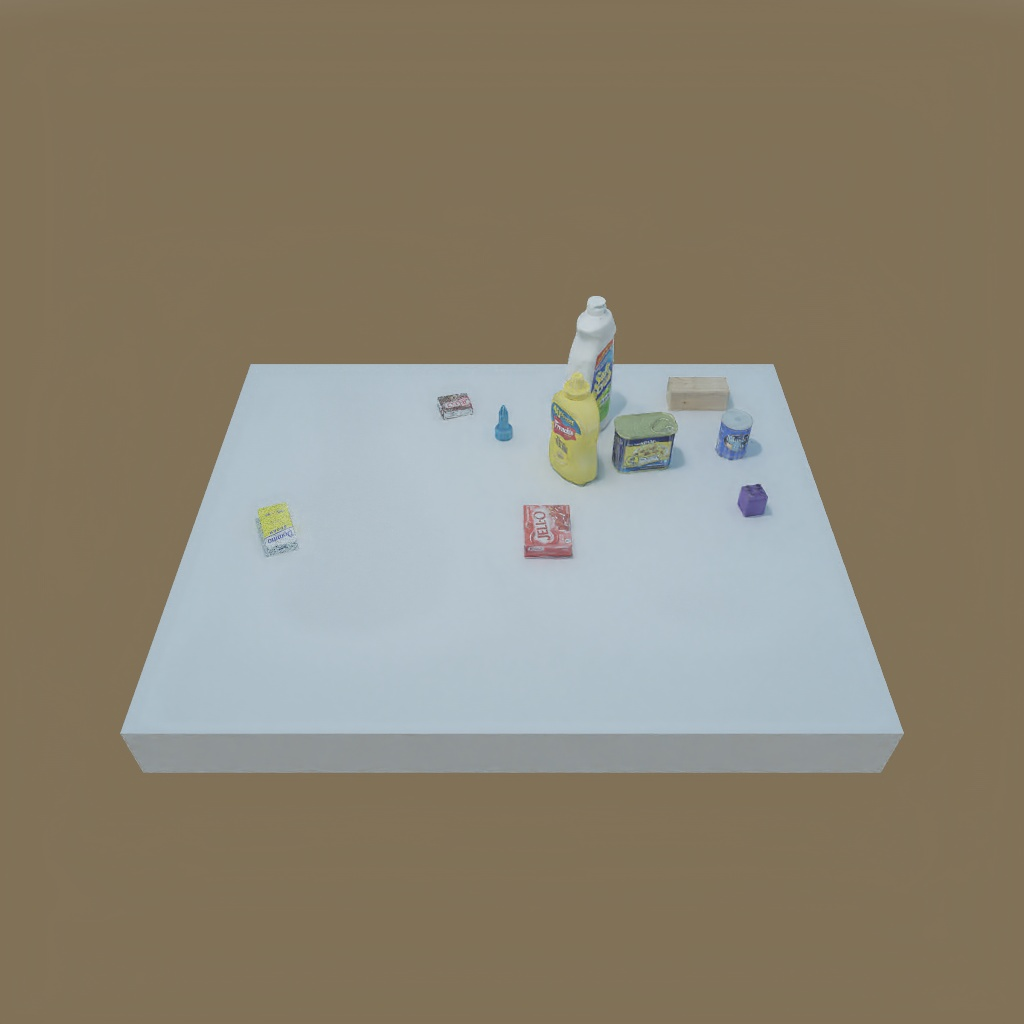gelatin_box: (520, 501, 574, 563)
master_chef_can: (719, 408, 750, 463)
mustard_bottle: (544, 372, 603, 488)
potted_meat_can: (611, 410, 675, 473)
pudding_box: (434, 388, 472, 419)
wood_block: (662, 374, 736, 415)
